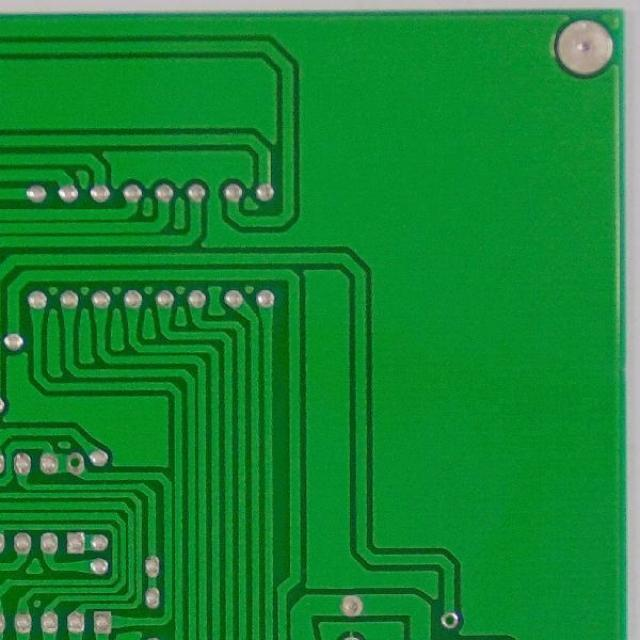Missing_Hole: (64, 452, 86, 476), (438, 610, 458, 630)
